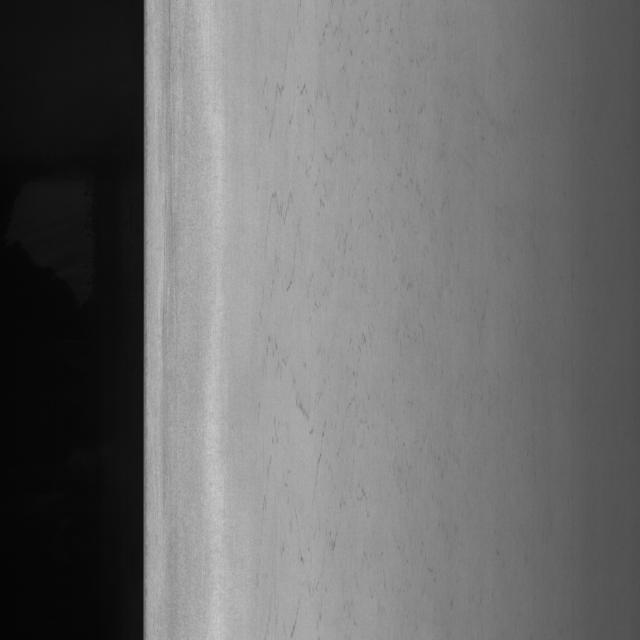inclusion: (259, 53, 425, 580)
